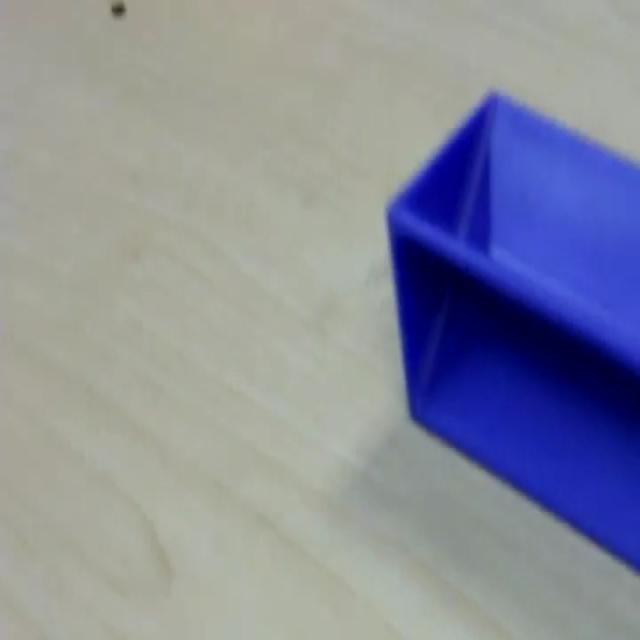blue_block: (384, 85, 639, 572)
